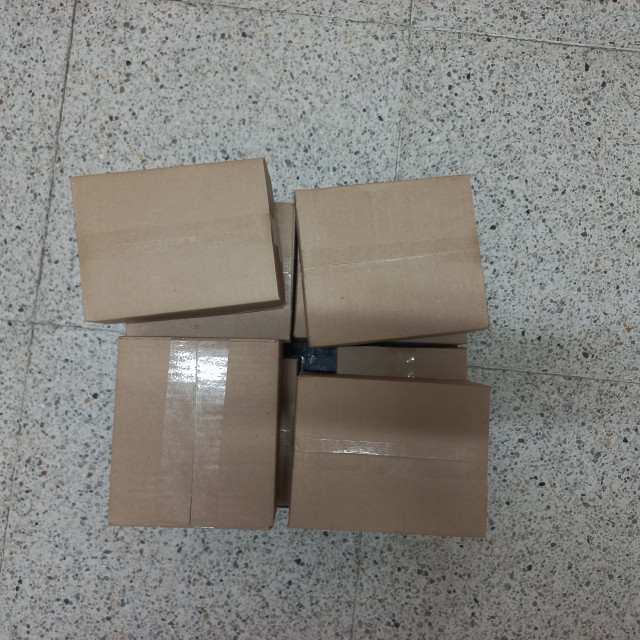box: (64, 158, 284, 326), (289, 170, 492, 350), (102, 331, 279, 532), (289, 376, 494, 540)
